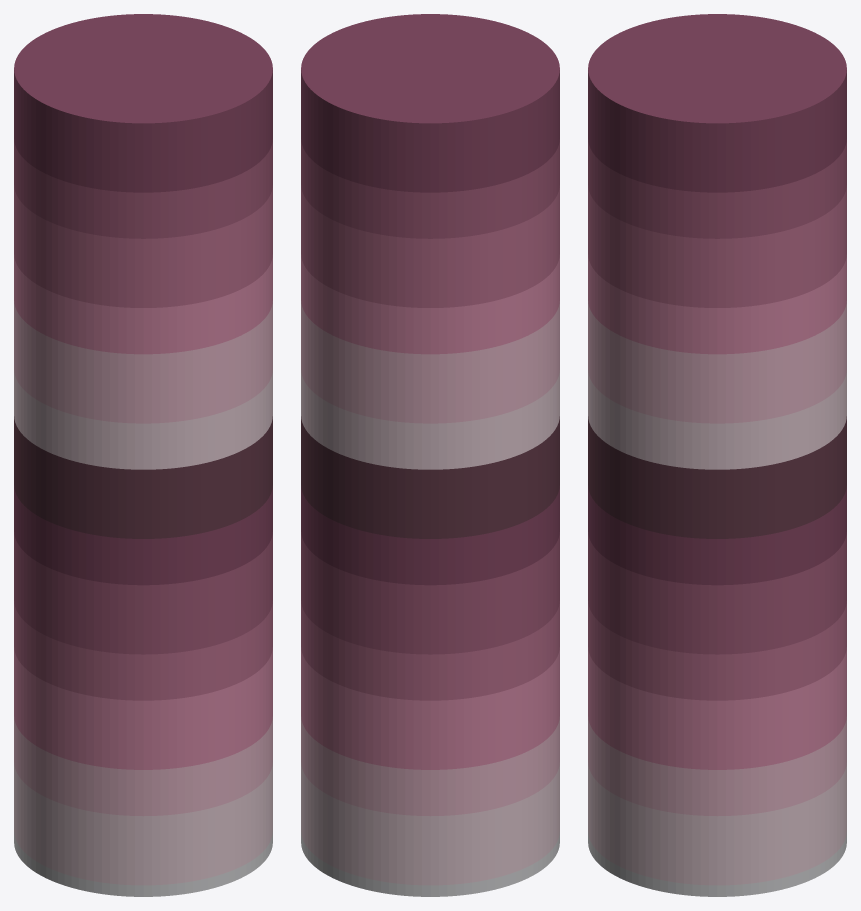
The model's file is cake_4in_layers7.glb.
3 views of the same model, side by side, from view 1: azimuth 30°, elevation 25°; view 2: azimuth 150°, elevation 25°; view 3: azimuth 270°, elevation 25° (orthographic).
Visible parts, largest first — view 1: geometry_12, geometry_0, geometry_4, geometry_2, geometry_6, geometry_8, geometry_10, geometry_3, geometry_7, geometry_11, geometry_5, geometry_9 (+2 smaller); view 2: geometry_12, geometry_0, geometry_4, geometry_2, geometry_6, geometry_8, geometry_10, geometry_3, geometry_7, geometry_11, geometry_5, geometry_9 (+2 smaller); view 3: geometry_12, geometry_0, geometry_4, geometry_2, geometry_6, geometry_8, geometry_10, geometry_3, geometry_7, geometry_11, geometry_5, geometry_9 (+2 smaller).
Boxes of the visible parts, box(x1,y1,x2,y2) form: geometry_12: box(14, 14, 272, 192); geometry_0: box(14, 763, 272, 885); geometry_4: box(14, 532, 272, 654); geometry_2: box(14, 647, 272, 769); geometry_6: box(14, 416, 272, 538); geometry_8: box(14, 301, 272, 423); geometry_10: box(14, 185, 272, 307); geometry_3: box(14, 601, 272, 700); geometry_7: box(14, 370, 272, 469); geometry_11: box(14, 139, 272, 238); geometry_5: box(14, 486, 272, 585); geometry_9: box(14, 255, 272, 354); geometry_12: box(301, 14, 559, 192); geometry_0: box(301, 763, 559, 885); geometry_4: box(301, 532, 559, 654); geometry_2: box(301, 647, 559, 769); geometry_6: box(301, 416, 559, 538); geometry_8: box(301, 301, 559, 423); geometry_10: box(301, 185, 559, 307); geometry_3: box(301, 601, 559, 700); geometry_7: box(301, 370, 559, 469); geometry_11: box(301, 139, 559, 238); geometry_5: box(301, 486, 559, 585); geometry_9: box(301, 255, 559, 354); geometry_12: box(588, 14, 846, 192); geometry_0: box(588, 763, 846, 885); geometry_4: box(588, 532, 846, 654); geometry_2: box(588, 647, 846, 769); geometry_6: box(588, 416, 846, 538); geometry_8: box(588, 301, 846, 423); geometry_10: box(588, 185, 846, 307); geometry_3: box(588, 601, 846, 700); geometry_7: box(588, 370, 846, 469); geometry_11: box(588, 139, 846, 238); geometry_5: box(588, 486, 846, 585); geometry_9: box(588, 255, 846, 354).
Bounding box in the file's own units: 0.1016 × 0.335 × 0.1016.
